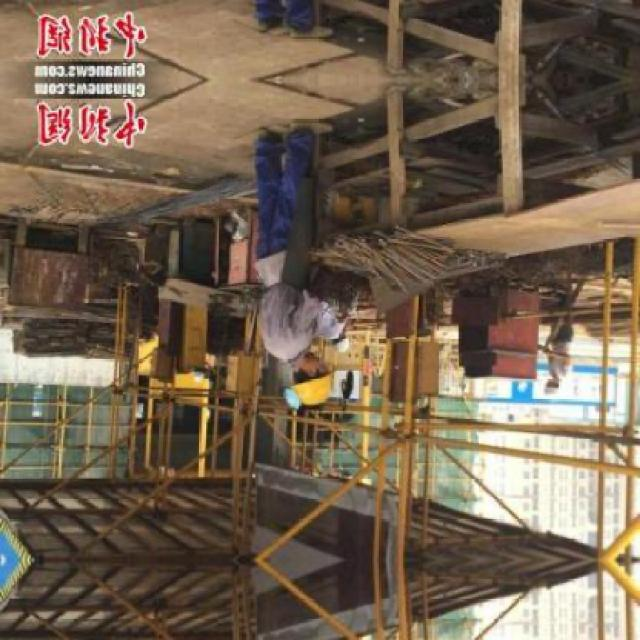con casco: (277, 338, 343, 416)
